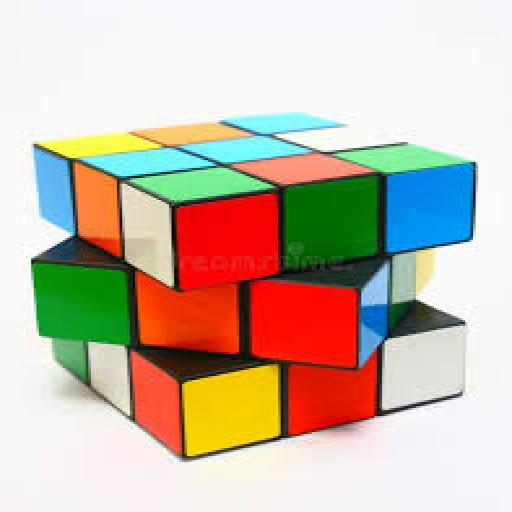cubic: (16, 97, 500, 478)
